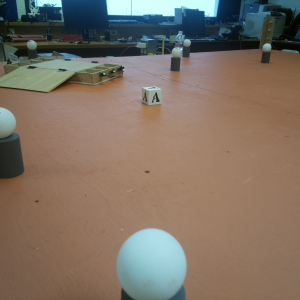blockA: (140, 82, 164, 109)
corner: (260, 14, 275, 41)
obstacle: (114, 224, 198, 300), (1, 99, 27, 180), (168, 45, 184, 74), (23, 37, 42, 60), (259, 44, 274, 67), (184, 38, 196, 65)
side: (77, 64, 129, 82)
slope: (6, 66, 67, 92)
